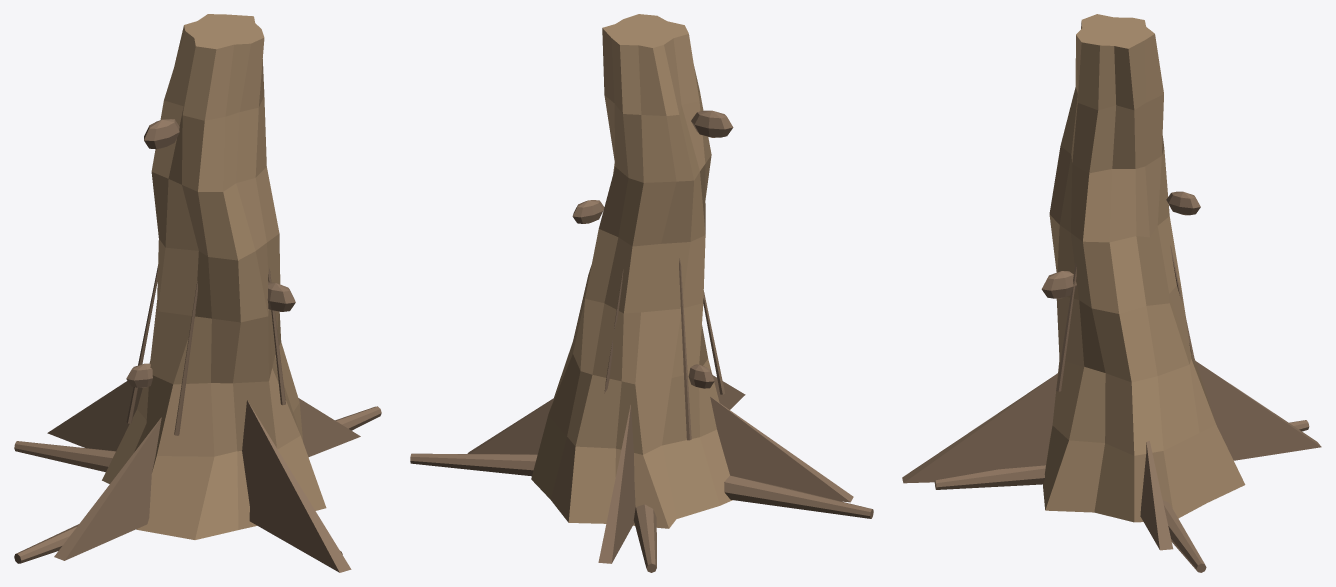
The model's file is myb_forest_trunk_knotted_a.fbx.
3 renders of one model, left to right at view 1: azimuth 30°, elevation 25°; view 2: azimuth 150°, elevation 25°; view 3: azimuth 270°, elevation 25°, orthographic. The views are drawn at different scales.
Parts seen in each view (by area): view 1: myb_forest_trunk_knotted_a; view 2: myb_forest_trunk_knotted_a; view 3: myb_forest_trunk_knotted_a.
Boxes of the visible parts, x1,y1,x2,y2 form: myb_forest_trunk_knotted_a: [14, 14, 381, 572]; myb_forest_trunk_knotted_a: [410, 14, 873, 572]; myb_forest_trunk_knotted_a: [902, 14, 1321, 572].
Size of the model in its own units: 2.84 by 3.02 by 2.55.
